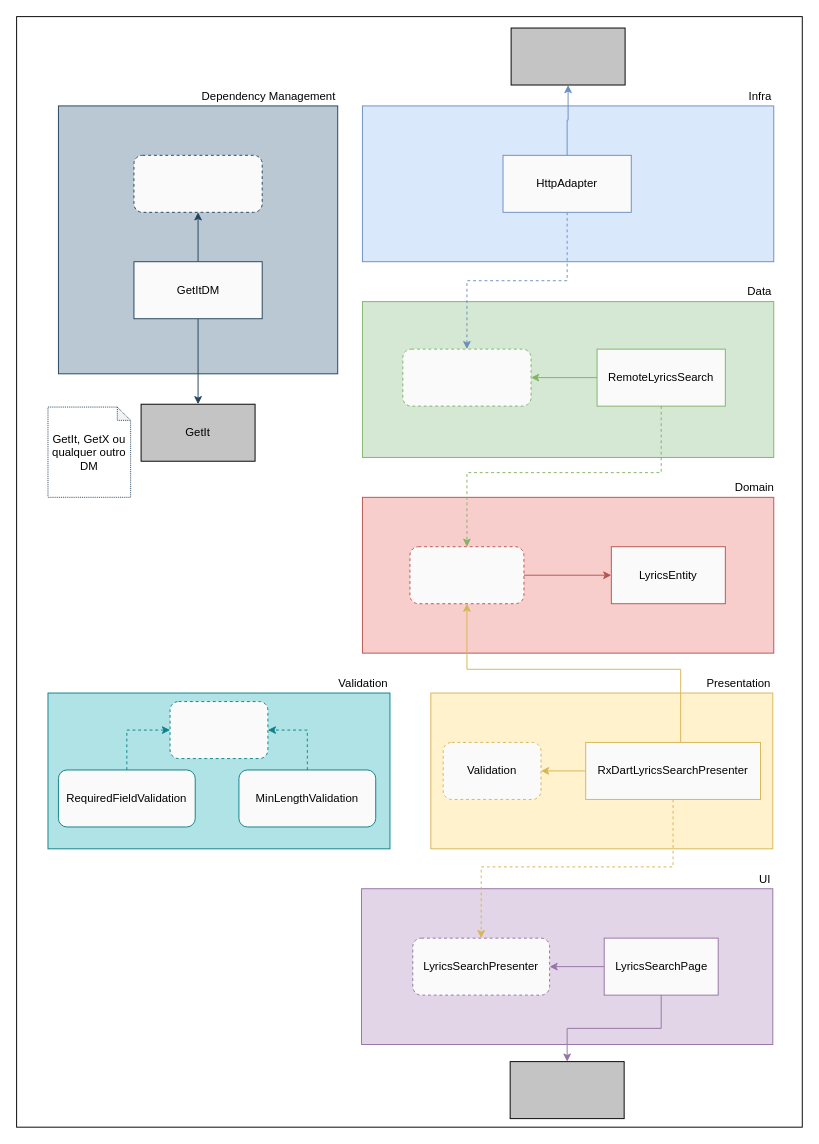
Image size: 819x1144. Some labels were removed from this diagram. Here are the shapes that lost their labels. From the top down, the centre of each, then its label:
At pixel 567 56: "Http".
At pixel 197 183: "DependecyManager".
At pixel 466 377: "HttpClient".
At pixel 466 575: "LyricsSearch".
At pixel 218 730: "FieldValidation".
At pixel 566 1090: "Flutter".
